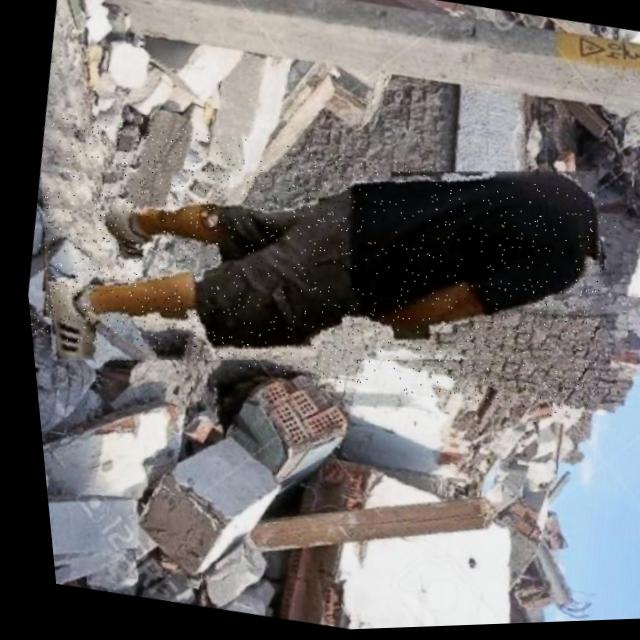Person in Rubble: (8, 93, 630, 444)
